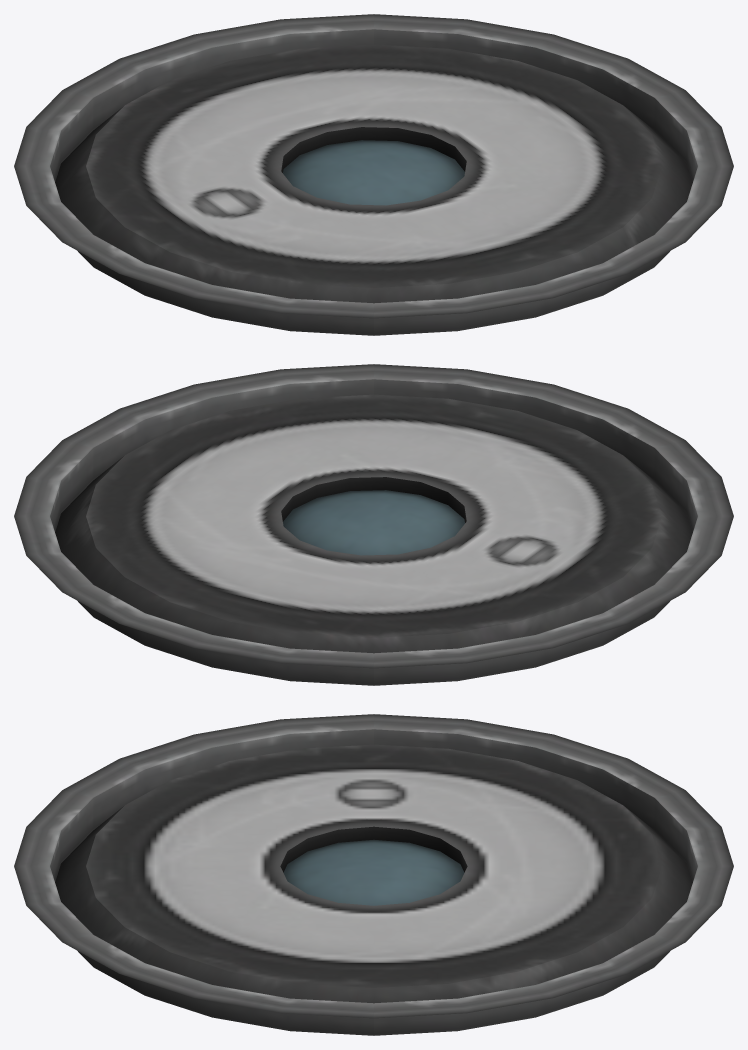
The model's file is end_crew_s0.obj.
3 renders of one model, top to bottom at view 1: azimuth 30°, elevation 25°; view 2: azimuth 150°, elevation 25°; view 3: azimuth 270°, elevation 25°, orthographic.
Visible parts, largest first — view 1: end; view 2: end; view 3: end.
Part boxes in pixels (left/top/right/bottom): end: left=14, top=14, right=733, bottom=335; end: left=14, top=364, right=733, bottom=685; end: left=14, top=714, right=733, bottom=1035.
Bounding box in the file's own units: 0.625 × 0.0313 × 0.625.
